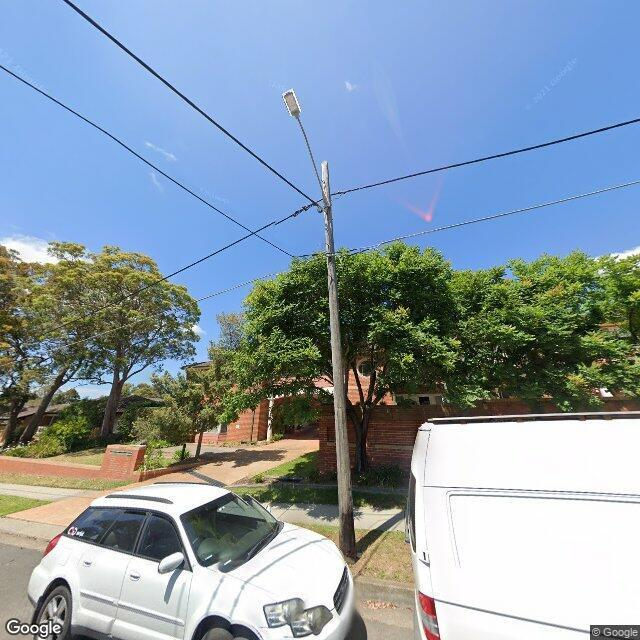streetlight: (282, 89, 329, 211)
timber-pole: (322, 161, 356, 563)
